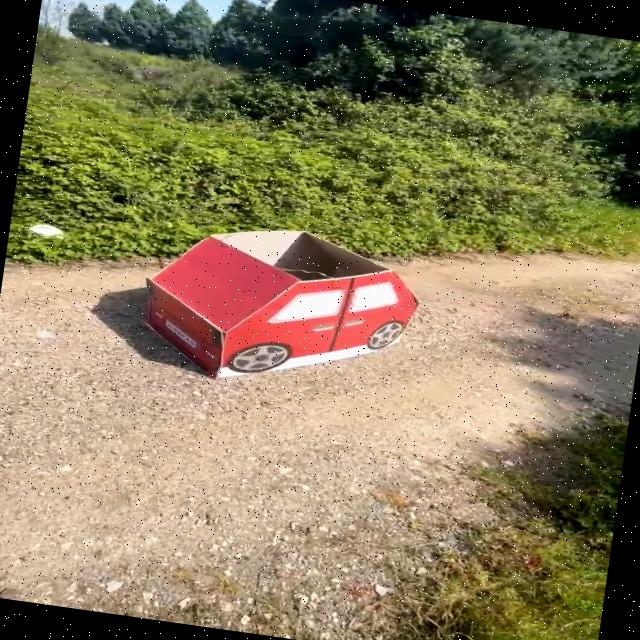red_car: (94, 199, 453, 421)
